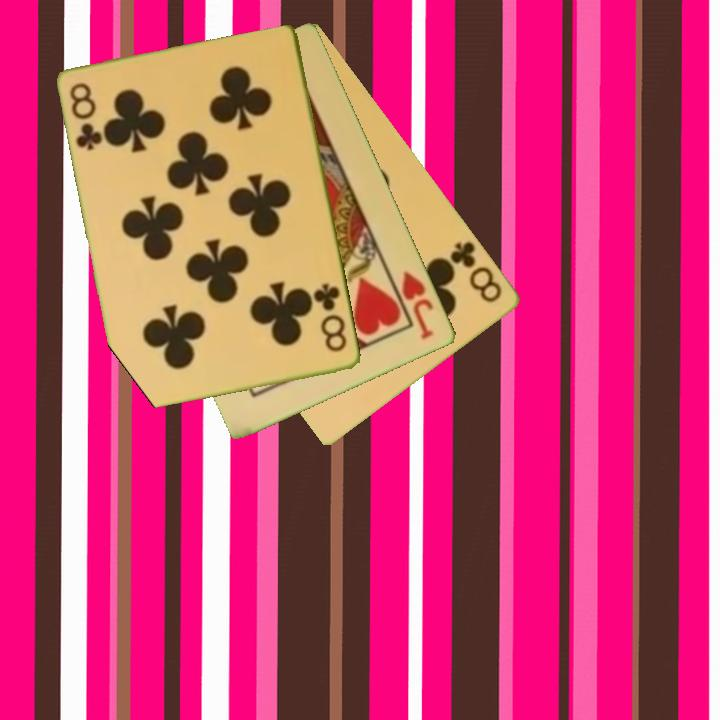8c: (447, 237, 506, 306), (310, 280, 350, 356), (67, 79, 106, 154)
Jh: (386, 267, 437, 343)
